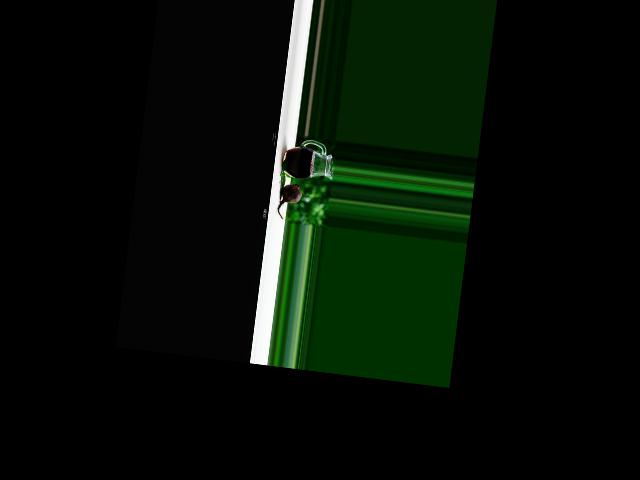beet: (276, 182, 302, 220)
